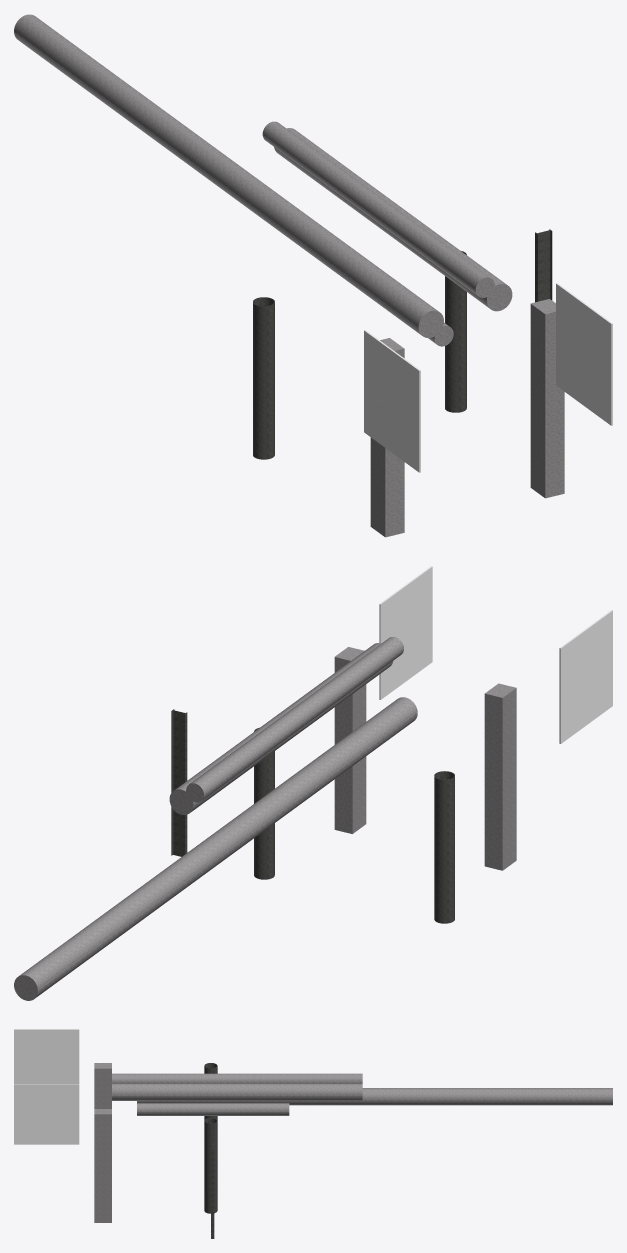
3 views of the same model, one above another, from view 1: azimuth 30°, elevation 25°; view 2: azimuth 150°, elevation 25°; view 3: azimuth 270°, elevation 25° (orthographic). The views are drawn at different scales.
Parts seen in each view (by area): view 1: 0_3_1_2_2_0_1; view 2: 0_3_1_2_2_0_1; view 3: 0_3_1_2_2_0_1.
Part boxes in pixels (<box>): 0_3_1_2_2_0_1: <box>14,14,612,537</box>; 0_3_1_2_2_0_1: <box>14,566,612,1000</box>; 0_3_1_2_2_0_1: <box>14,1029,612,1238</box>.
Size of the model in its own units: 9.39 by 6.72 by 27.55.
Materials: 11 (9 with a texture image).
